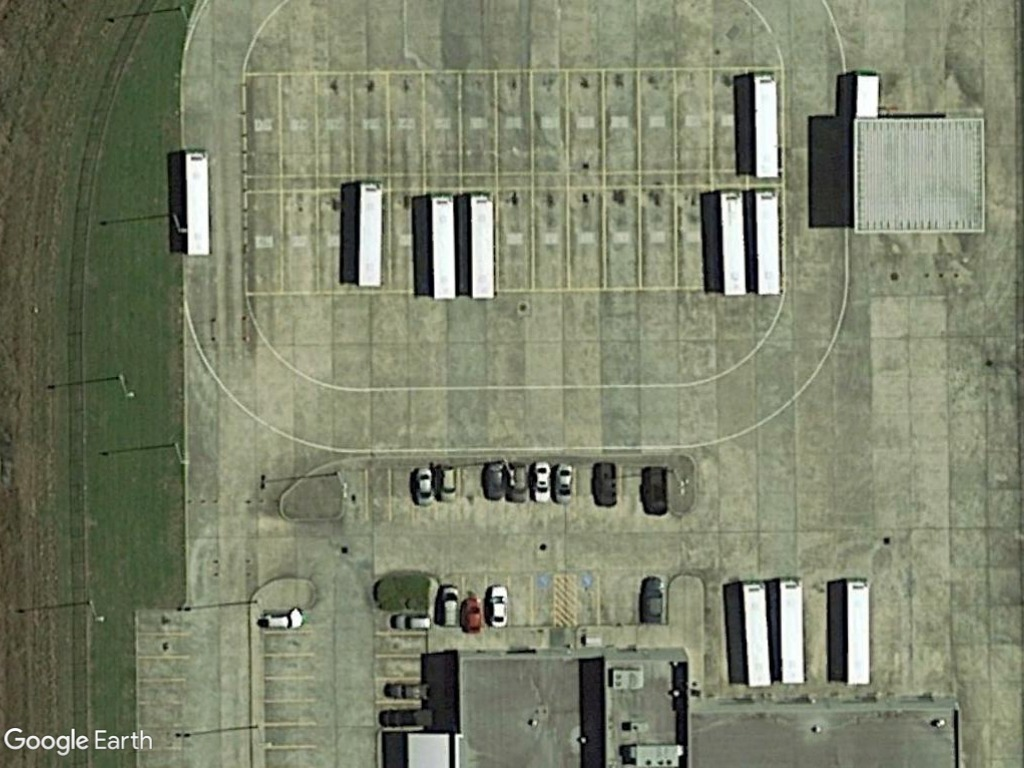car: (483, 581, 510, 635), (549, 456, 578, 506), (437, 582, 463, 632), (433, 462, 461, 507), (459, 594, 487, 637), (531, 457, 553, 509), (411, 465, 436, 510), (390, 609, 433, 635)
longvehicle: (177, 146, 218, 261), (422, 190, 462, 303), (839, 574, 877, 690), (771, 577, 809, 692), (748, 70, 786, 183), (354, 177, 390, 294), (717, 186, 752, 299), (463, 189, 497, 305), (740, 575, 773, 694), (751, 186, 784, 301)
